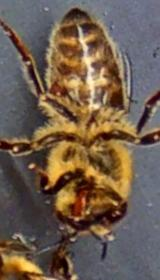varroa_mite: (42, 75, 68, 98)
